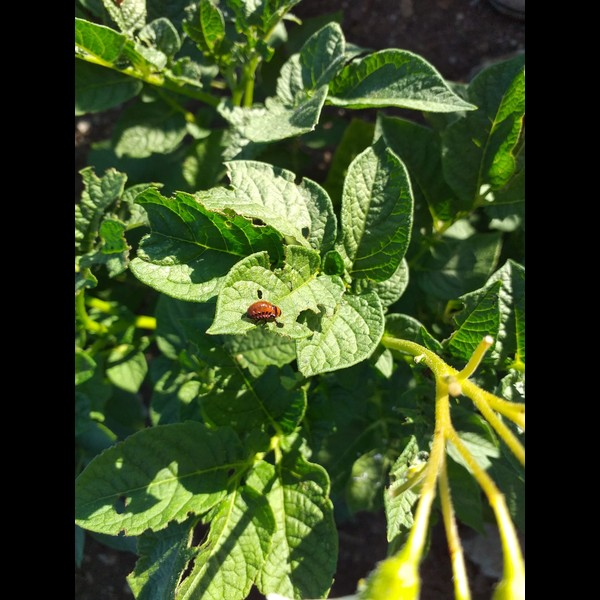hrosc: (241, 296, 282, 326)
